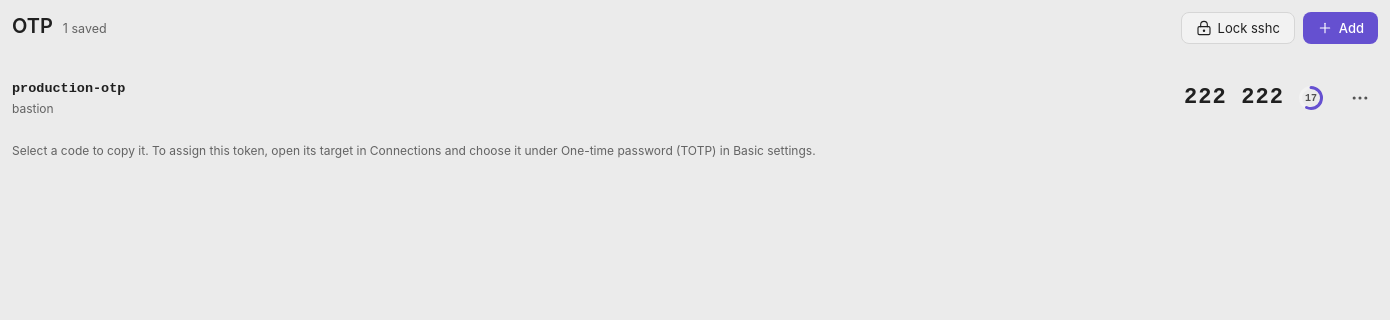
Test: SecretsPanel › opens the codes around the current one under the row from its menu
Expected: the text "222 222" is shown, [1184,84,1284,112]
Click the button named "Actions for production-otp" at (1360, 98), box [1342,80,1378,116]
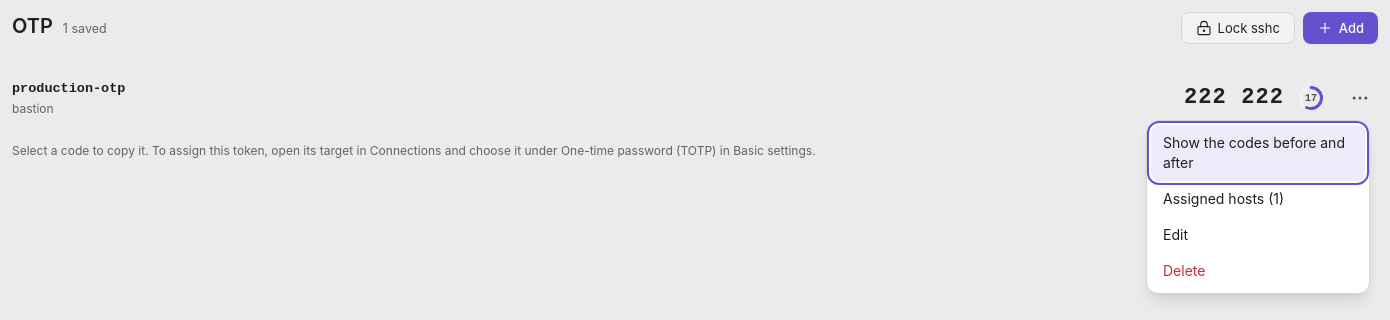
Click the menu item "Show the codes before and after" at (1258, 153), box [1151,125,1365,181]
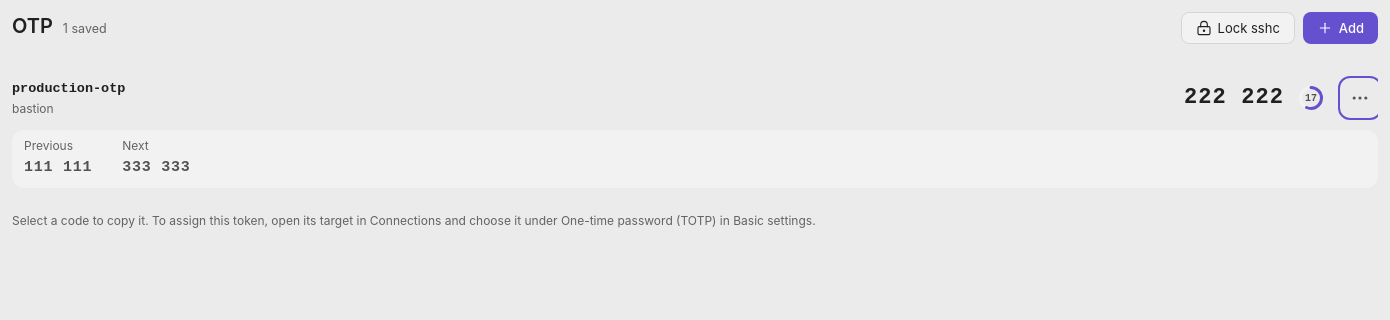
Result: the text "111 111" is shown at [24,158,92,178]
Result: the text "333 333" is shown at [122,158,191,178]
